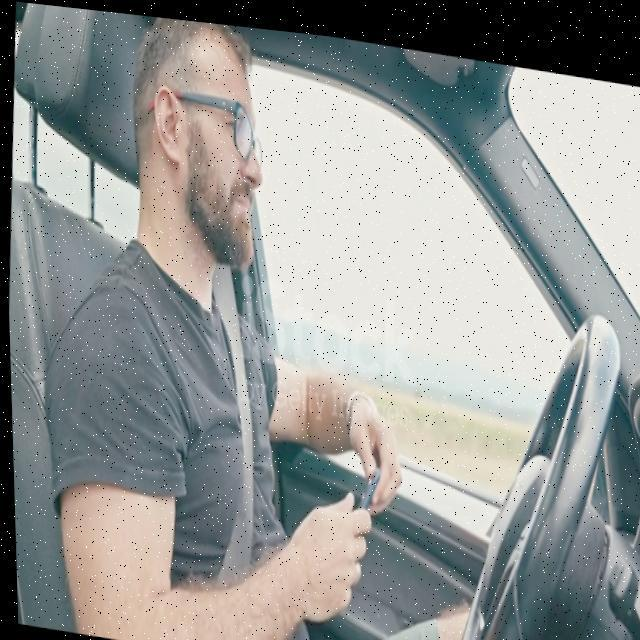PhoneCall: (337, 444, 382, 544)
